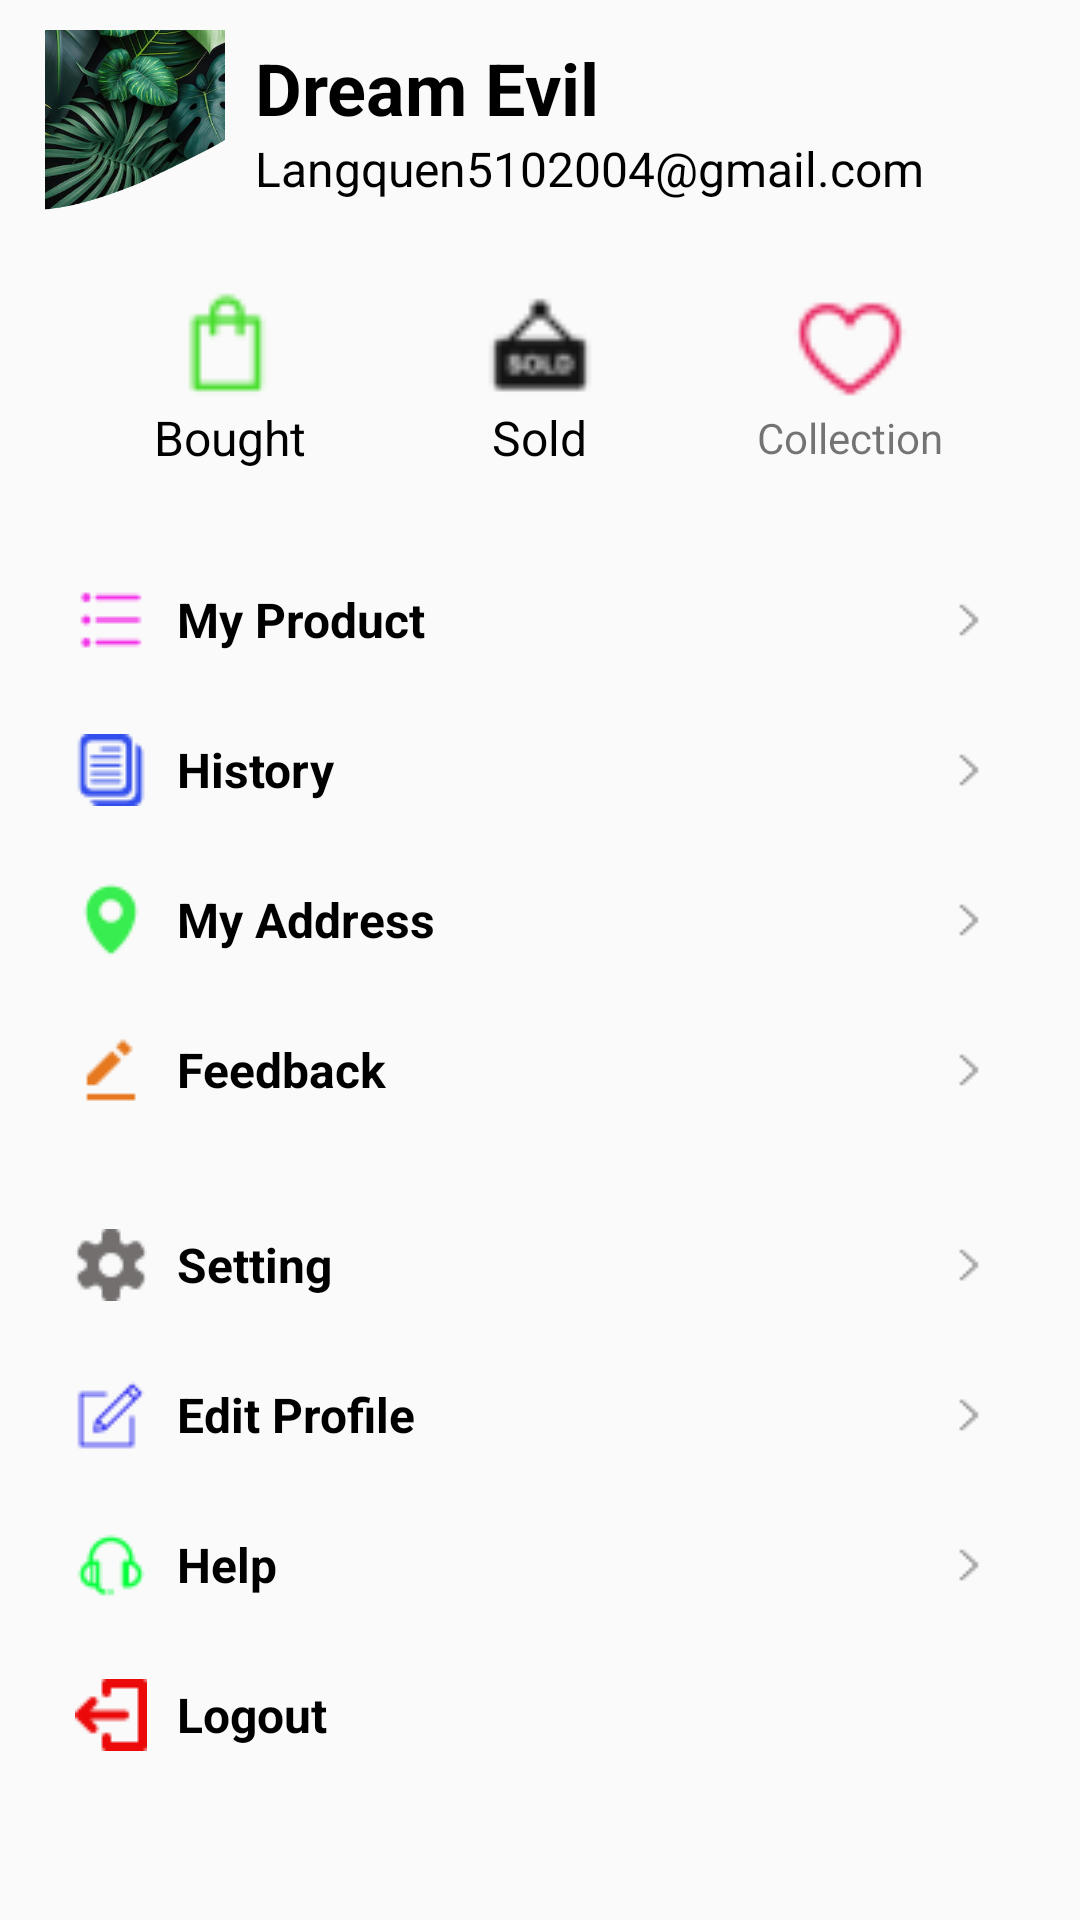

Where to tap for icons on this 1080*1920 app screen, as [x,y]:
heart: [850,349]
